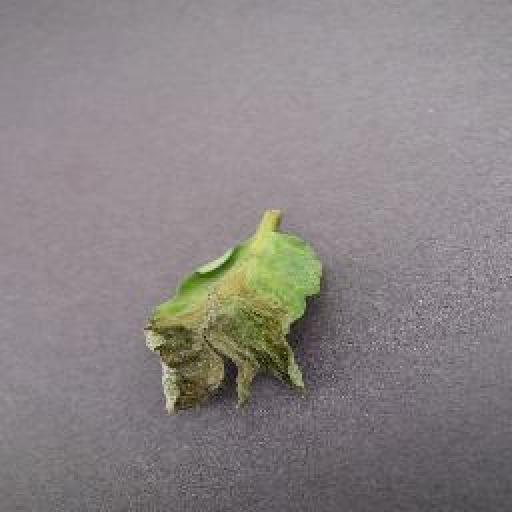disease_tomato: (145, 226, 323, 420)
